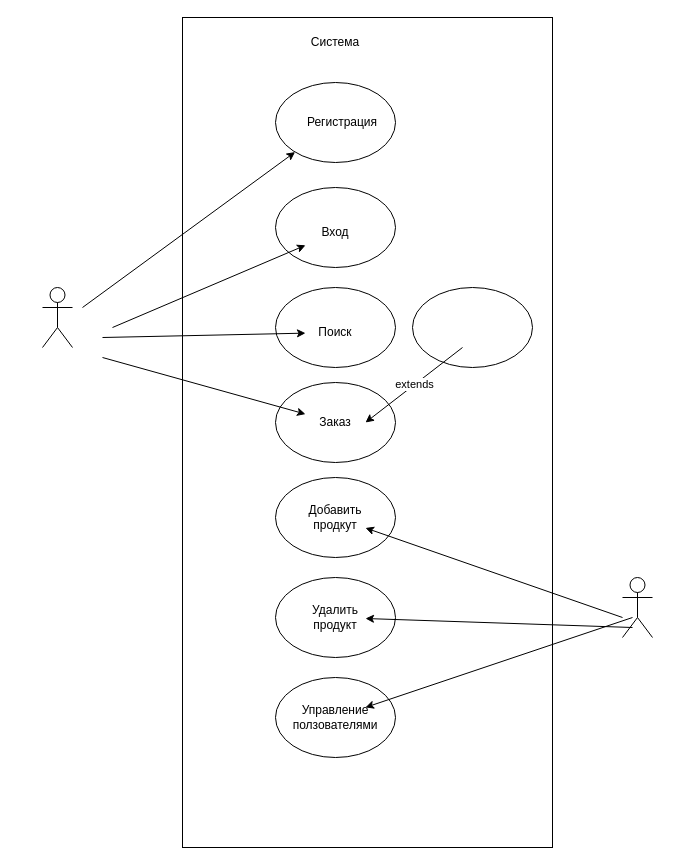
Some shapes in this 698 by 865 pixel diagram are drawn without their labels. The box of each missing label's shape, as (x1, y1, x2, y2) in pixels:
Администратор: (622, 576, 652, 638)
Пользователь: (42, 286, 72, 348)
Применить скидку: (412, 286, 532, 368)
